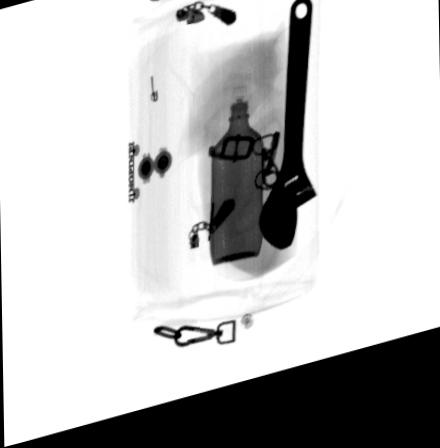Wrench: (257, 9, 319, 265)
